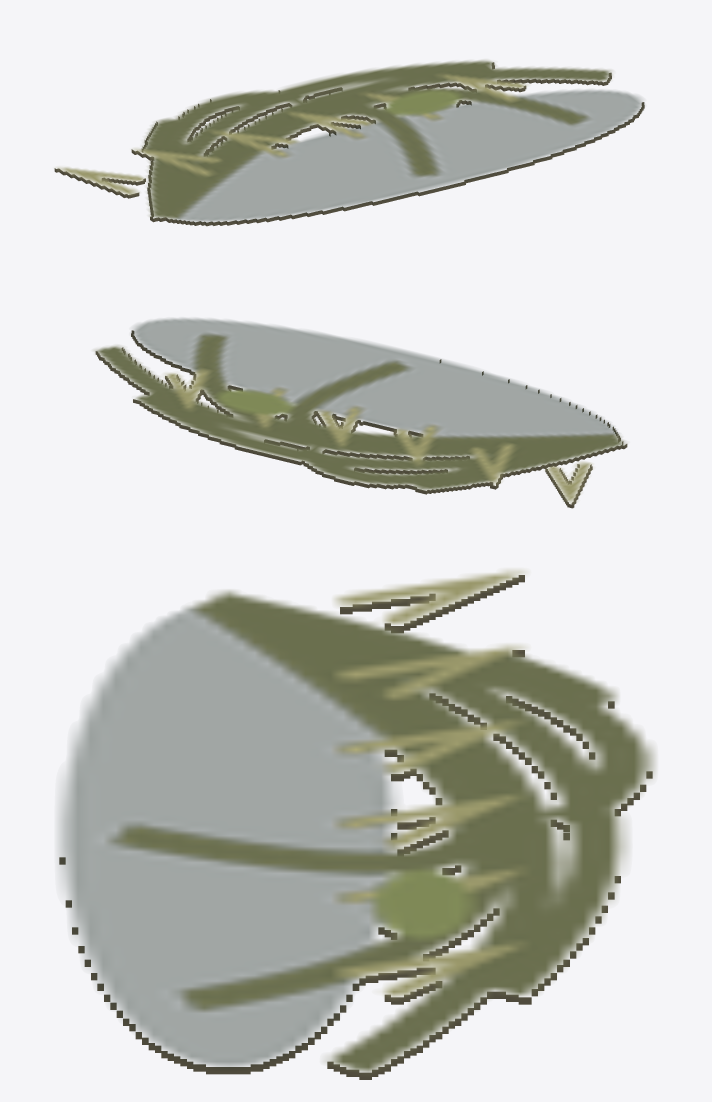
The model's file is Thorns.glb.
3 renders of one model, top to bottom at view 1: azimuth 30°, elevation 25°; view 2: azimuth 150°, elevation 25°; view 3: azimuth 270°, elevation 25°, orthographic. The views are drawn at different scales.
Visible parts, largest first — view 1: Visual; view 2: Visual; view 3: Visual.
Boxes of the visible parts, <box> form: Visual: <box>54,60,644,226</box>; Visual: <box>94,318,627,508</box>; Visual: <box>59,569,655,1079</box>.
Size of the model in its own units: 3.02 by 0.02 by 1.53.
3 materials, 2 textured.
